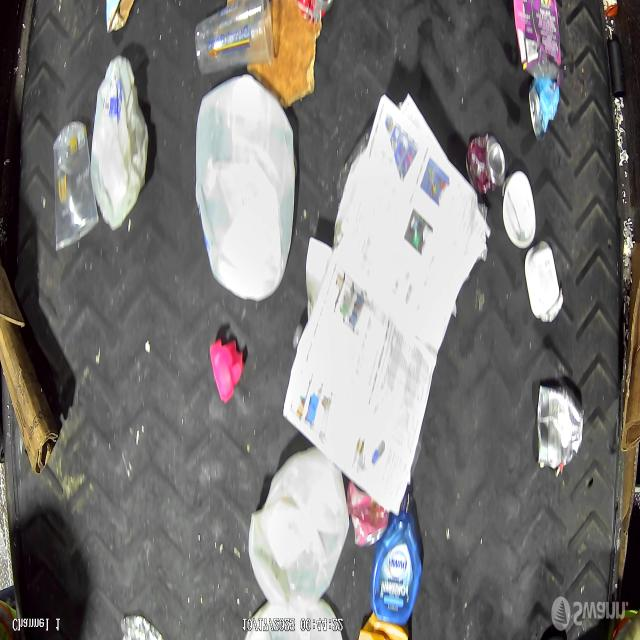can: (534, 379, 583, 470), (346, 482, 389, 547), (467, 133, 508, 197), (528, 76, 562, 142)
milk_jug: (195, 77, 296, 302), (248, 448, 351, 611), (90, 58, 148, 231)
